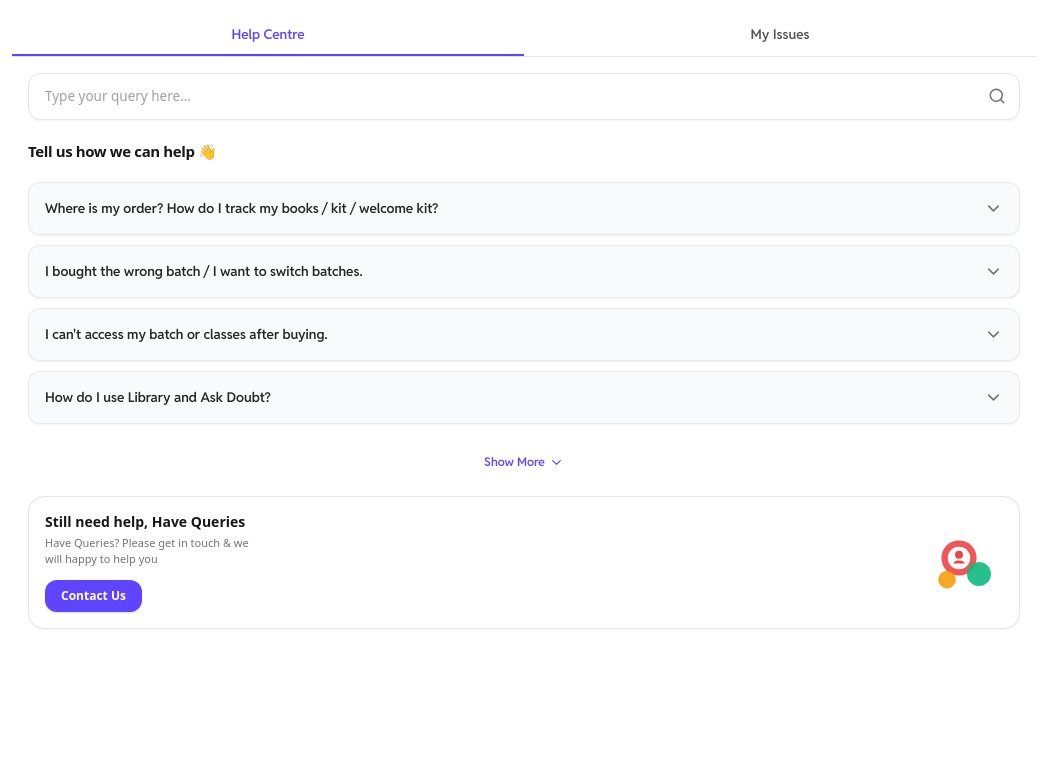
Test: door 2: the Help Centre search bar › hides again for an unrelated query
Step 1. Type "admin" into the field with placeholder "Type your query here..." → (524, 96), box [28,73,1020,120]
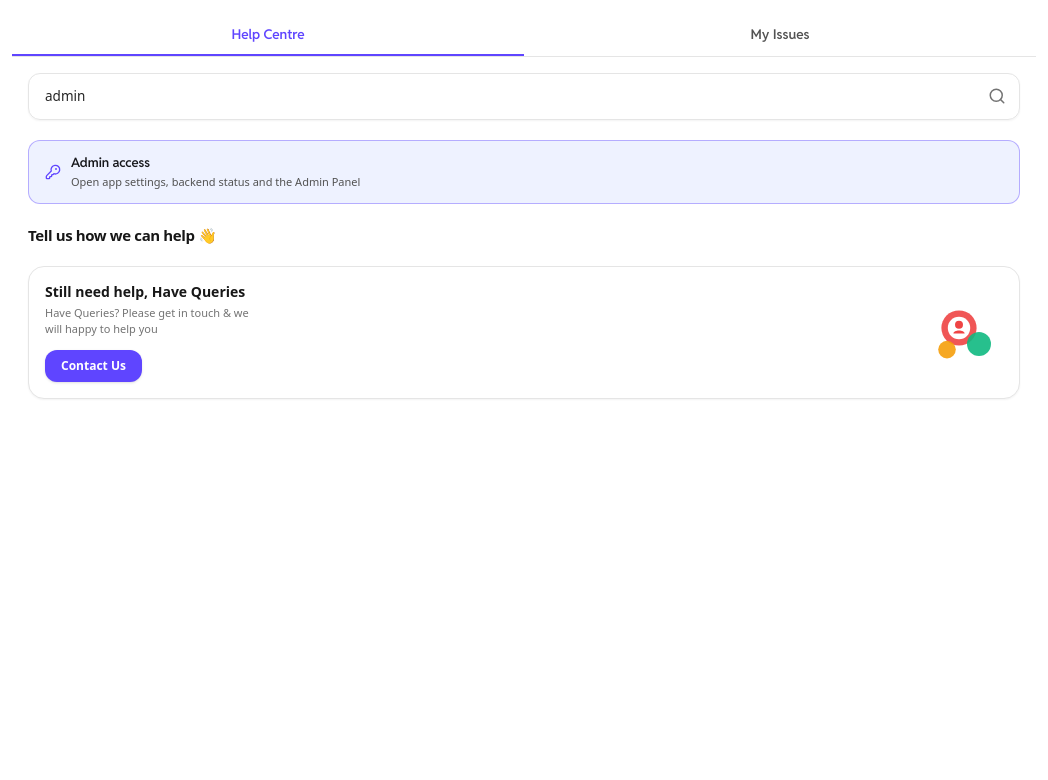
Now the text "Admin access" is shown, box [71,154,150,170]
Step 2. Replace the text in the field with placeholder "Type your query here..." with "payment failed" → (524, 96), box [28,73,1020,120]
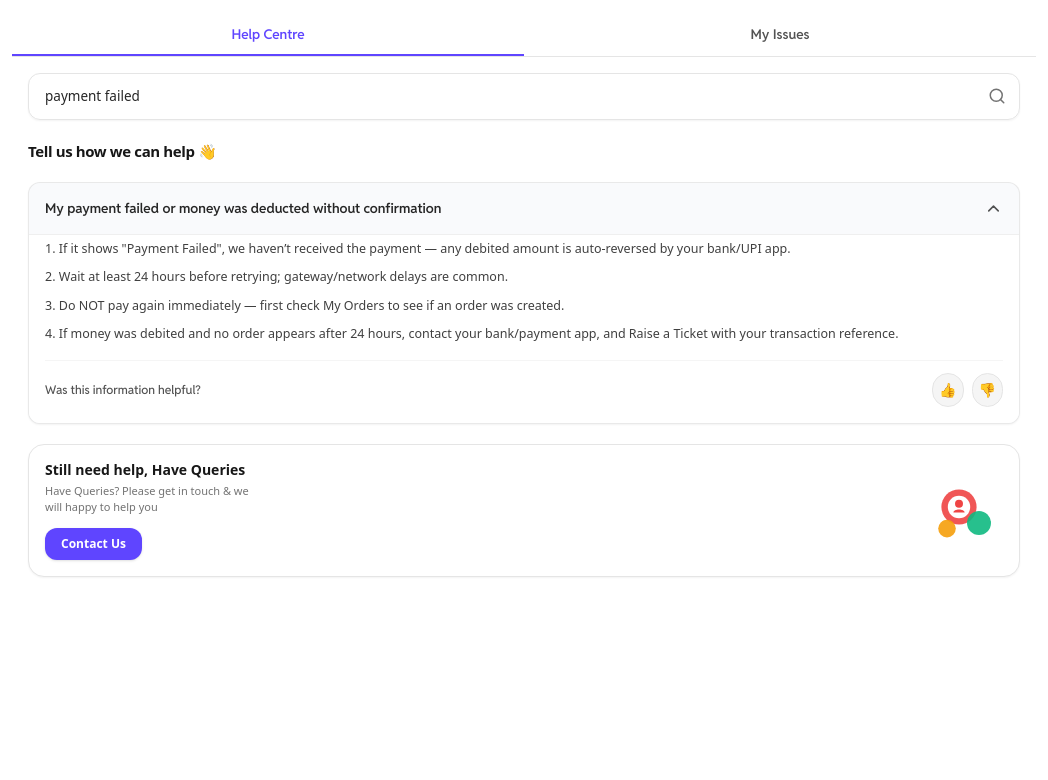
Now the button "Admin access" is gone
